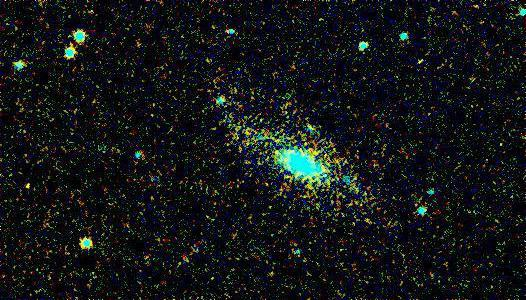star: (13, 174, 43, 204)
